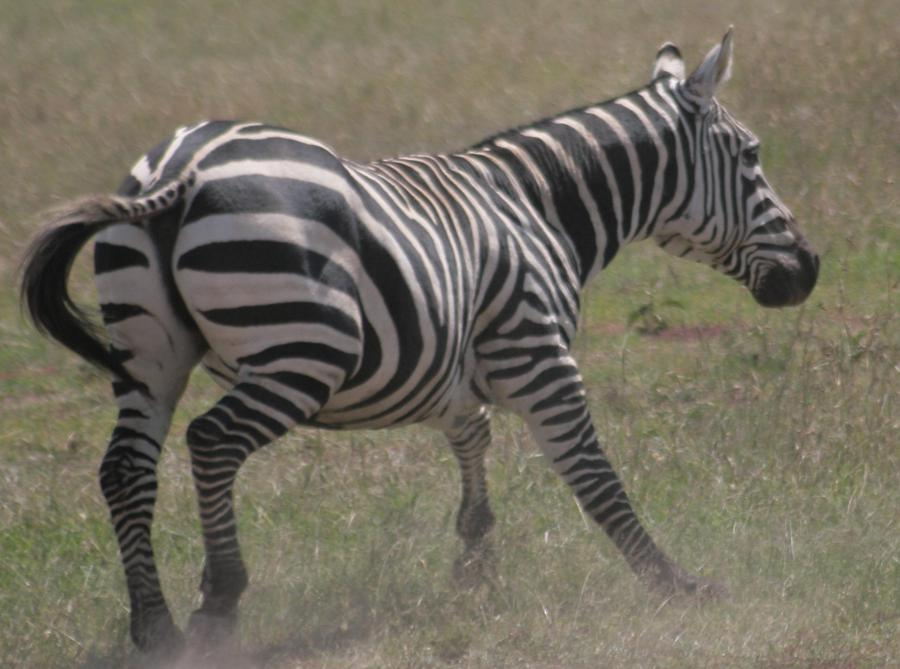zebra_plains: (217, 110, 590, 450)
